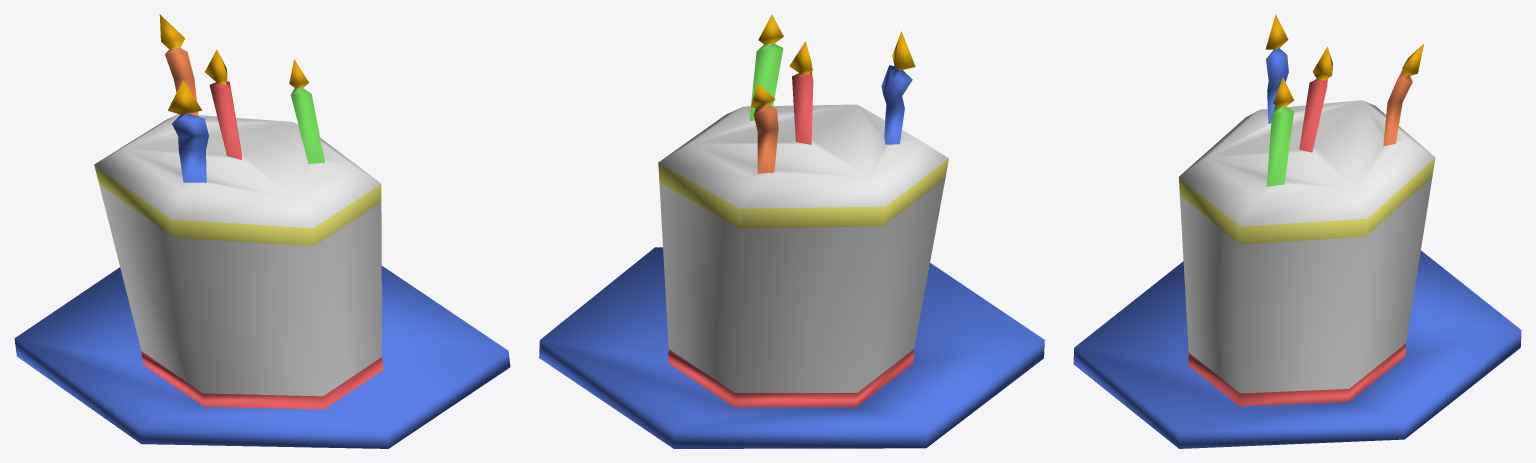
The model's file is Birthday_Hat.fbx.
3 renders of one model, left to right at view 1: azimuth 30°, elevation 25°; view 2: azimuth 150°, elevation 25°; view 3: azimuth 270°, elevation 25°, orthographic. The views are drawn at different scales.
Visible parts, largest first — view 1: Birthday hat; view 2: Birthday hat; view 3: Birthday hat.
Boxes of the visible parts, x1,y1,x2,y2 form: Birthday hat: [14, 14, 510, 448]; Birthday hat: [539, 14, 1044, 448]; Birthday hat: [1073, 14, 1521, 448].
Size of the model in its own units: 64.38 by 54 by 69.76.
